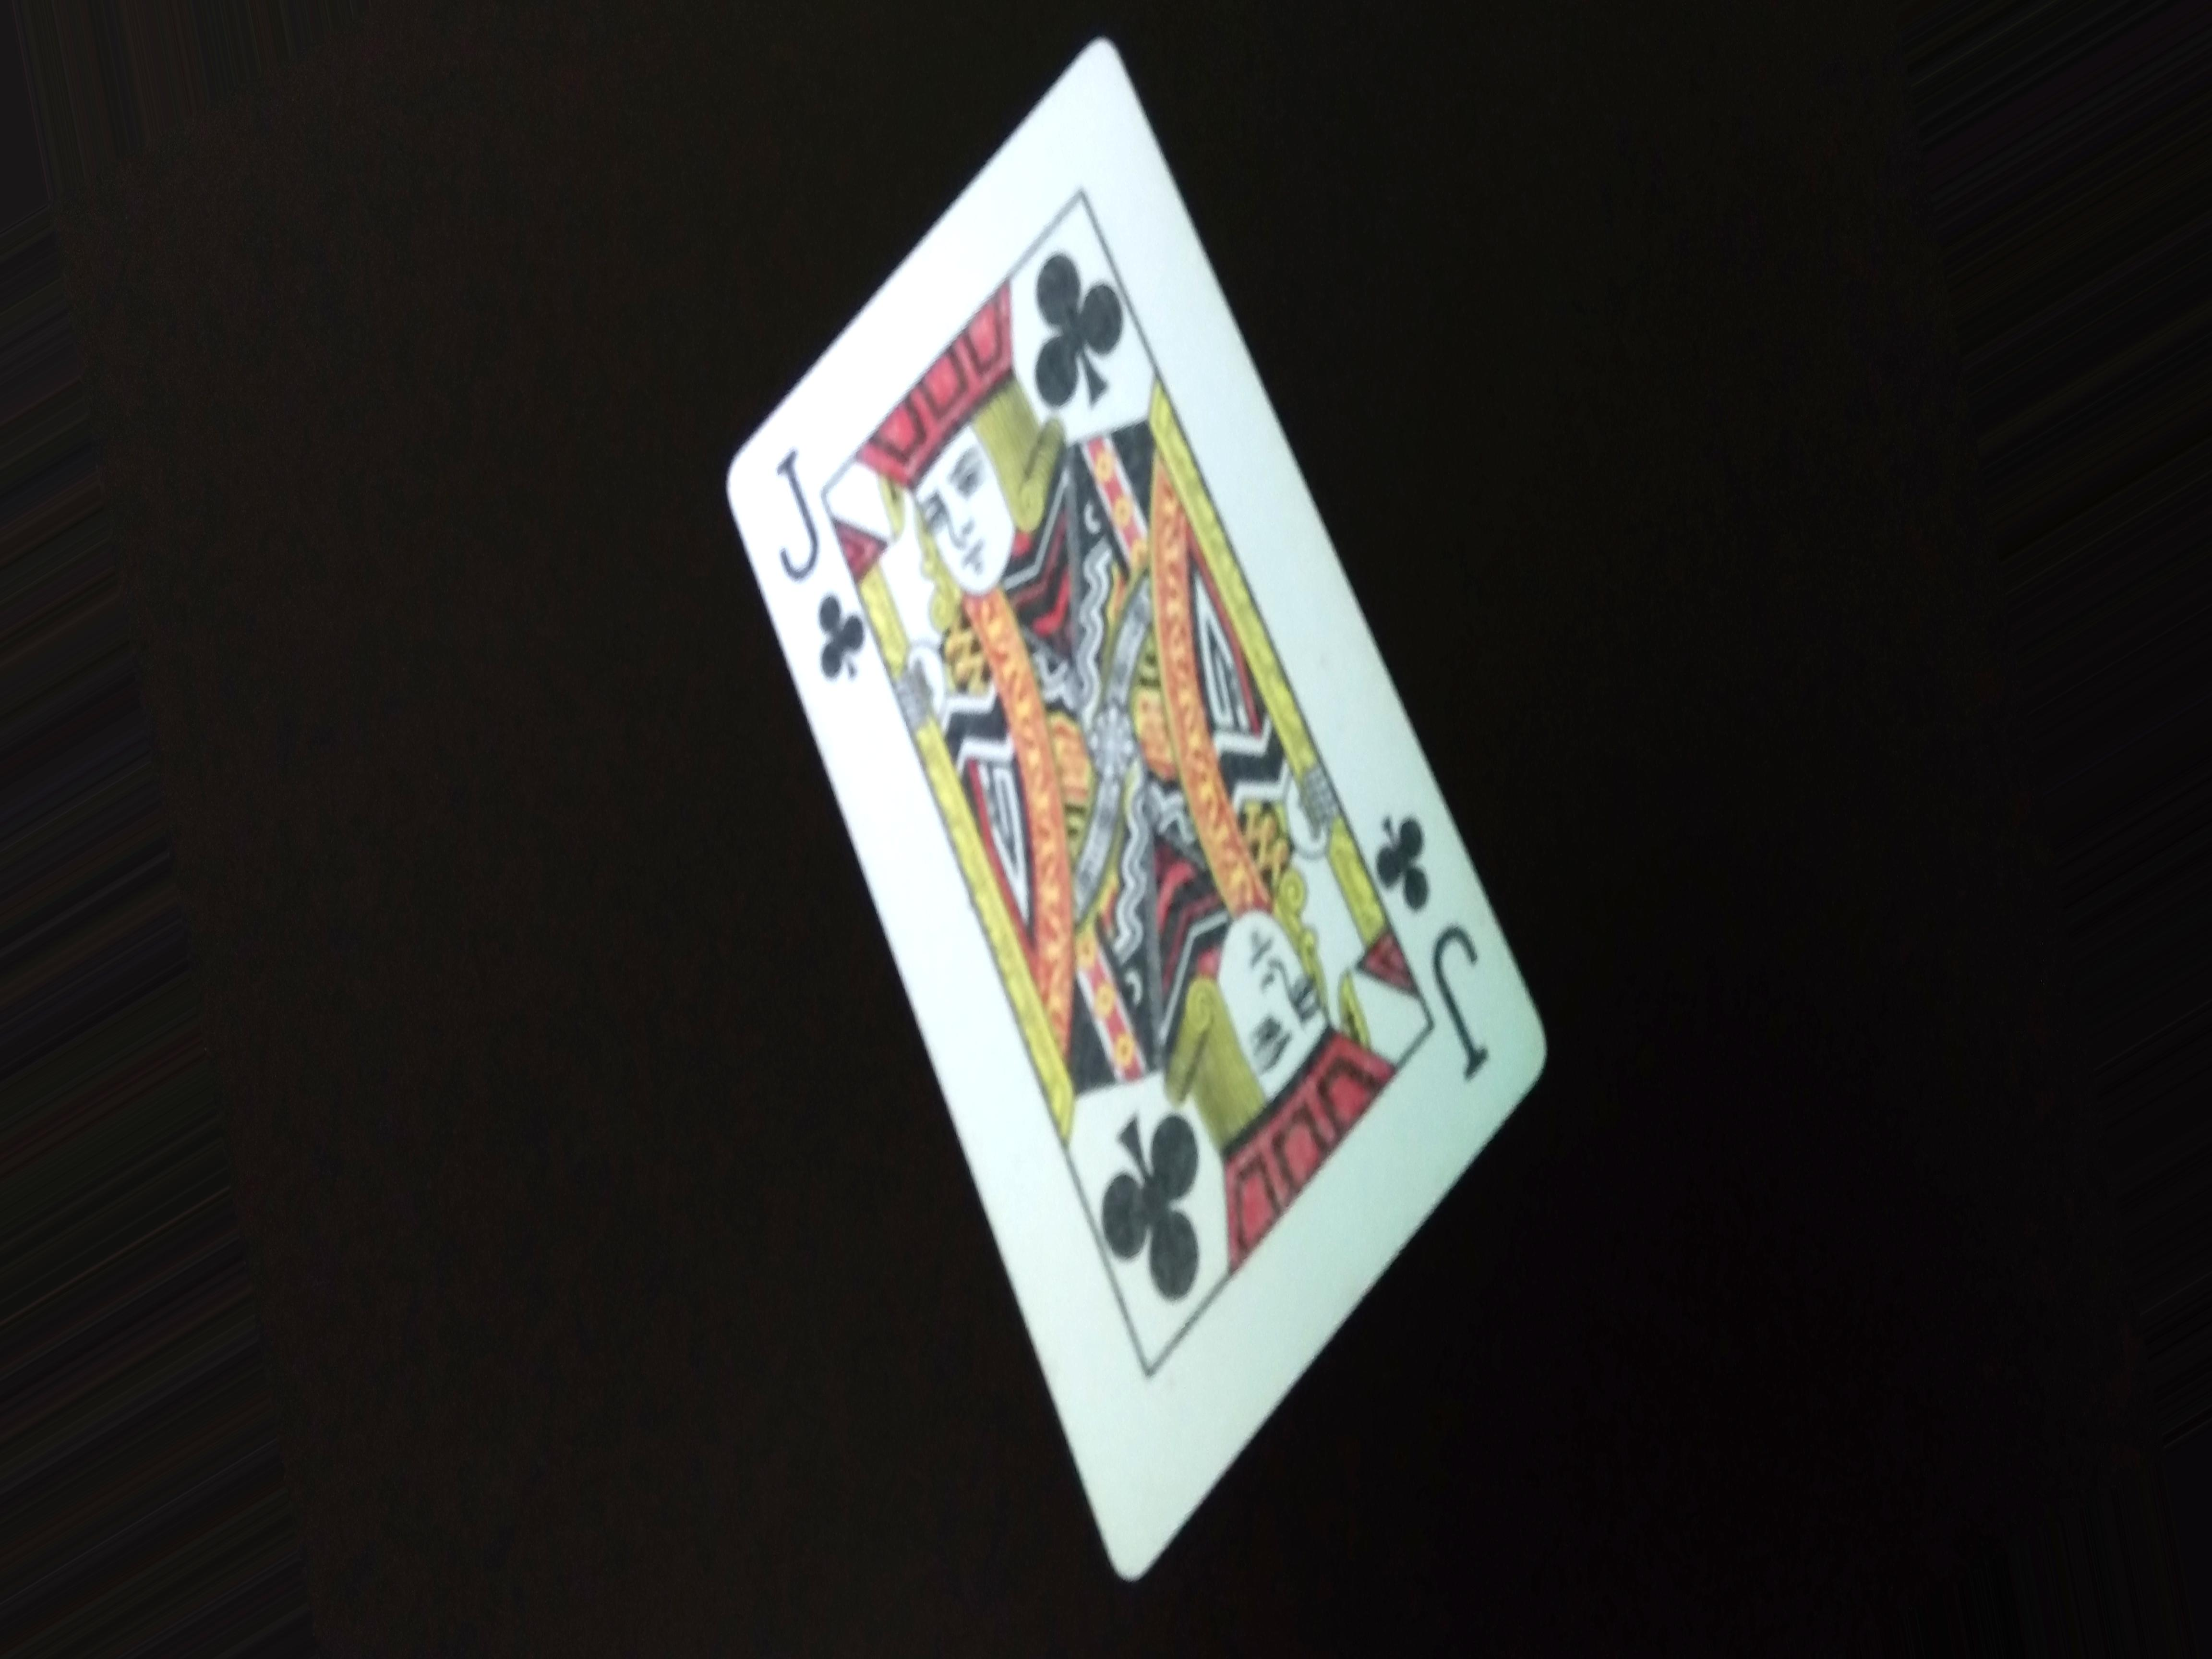JC: (770, 437, 860, 721)
